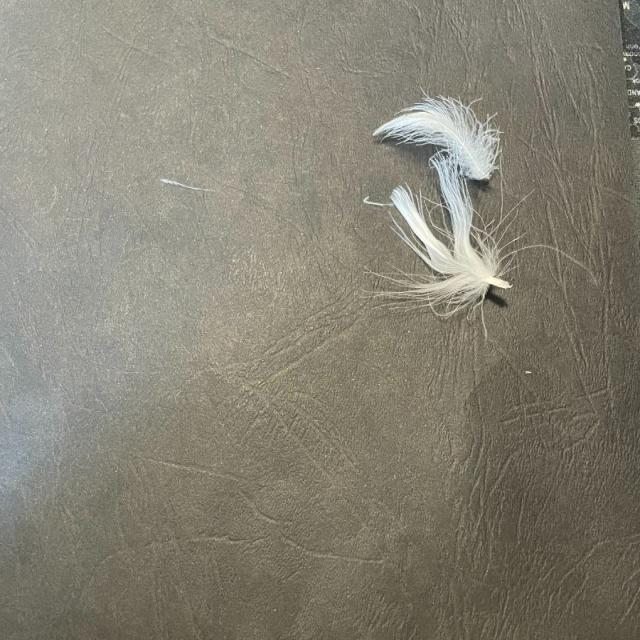feather: (379, 153, 511, 314), (372, 92, 498, 179)
